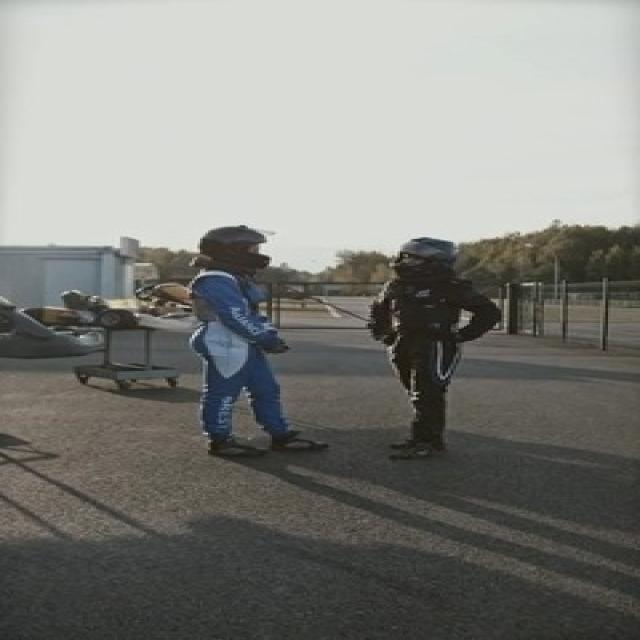Helmet_Wearer: (378, 233, 468, 286), (188, 228, 279, 273)
Jacket_Wearer: (369, 276, 504, 348)
Person: (182, 226, 329, 457), (362, 234, 502, 461)
